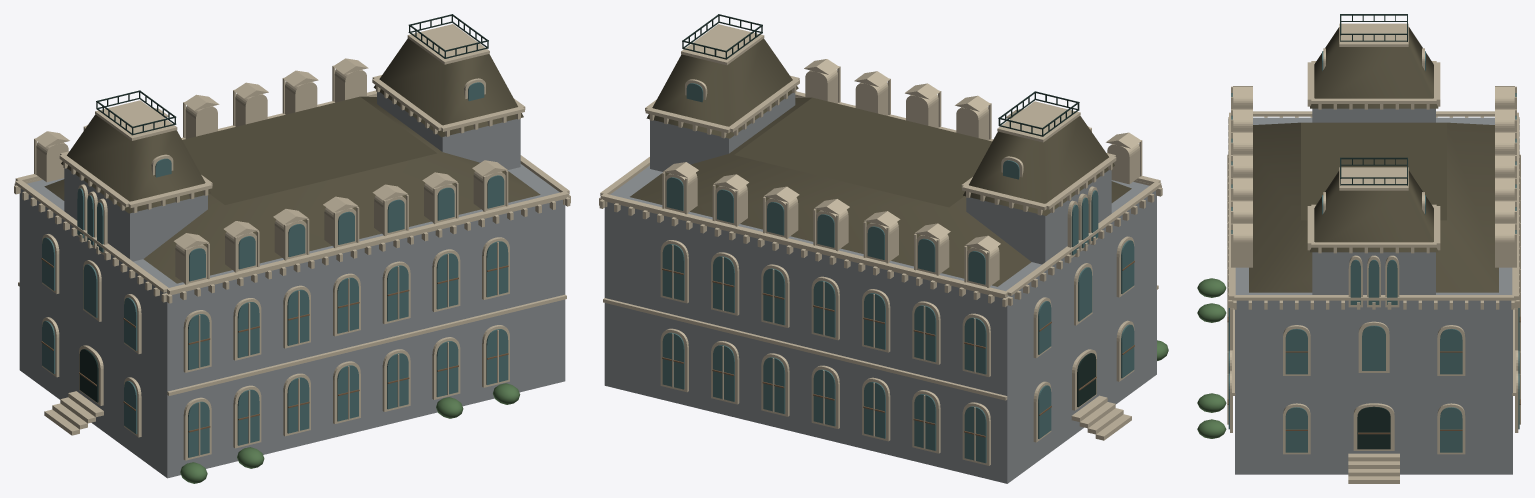
File: university-hall-tower-exterior-2026-11-04.glb
3 views of the same model, side by side, from view 1: azimuth 30°, elevation 25°; view 2: azimuth 150°, elevation 25°; view 3: azimuth 270°, elevation 25° (orthographic). The views are drawn at different scales.
Parts seen in each view (by area): view 1: university-part-0, university-part-1; view 2: university-part-0; view 3: university-part-0, university-part-1.
Boxes of the visible parts, bbox=[...] form: university-part-0: bbox=[14, 14, 570, 478]; university-part-1: bbox=[180, 383, 520, 483]; university-part-0: bbox=[599, 14, 1162, 483]; university-part-0: bbox=[1227, 14, 1520, 483]; university-part-1: bbox=[1197, 278, 1226, 438].
Size of the model in its own units: 32.98 by 20.52 by 20.95.
